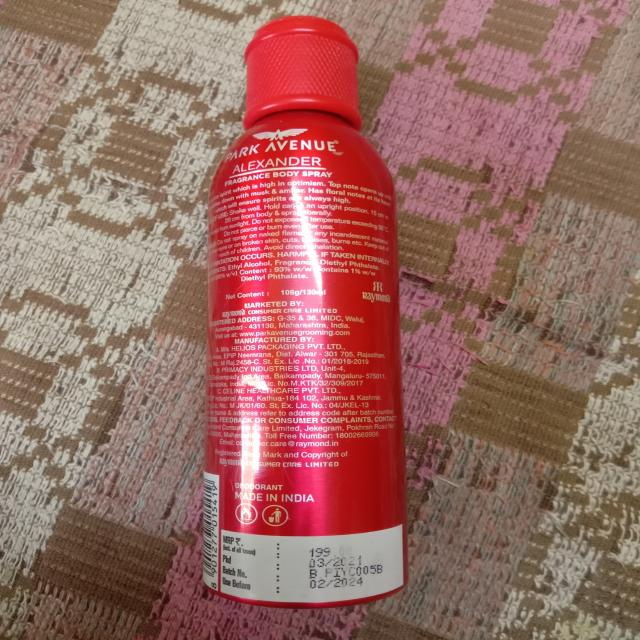deodorant: (200, 17, 395, 595)
